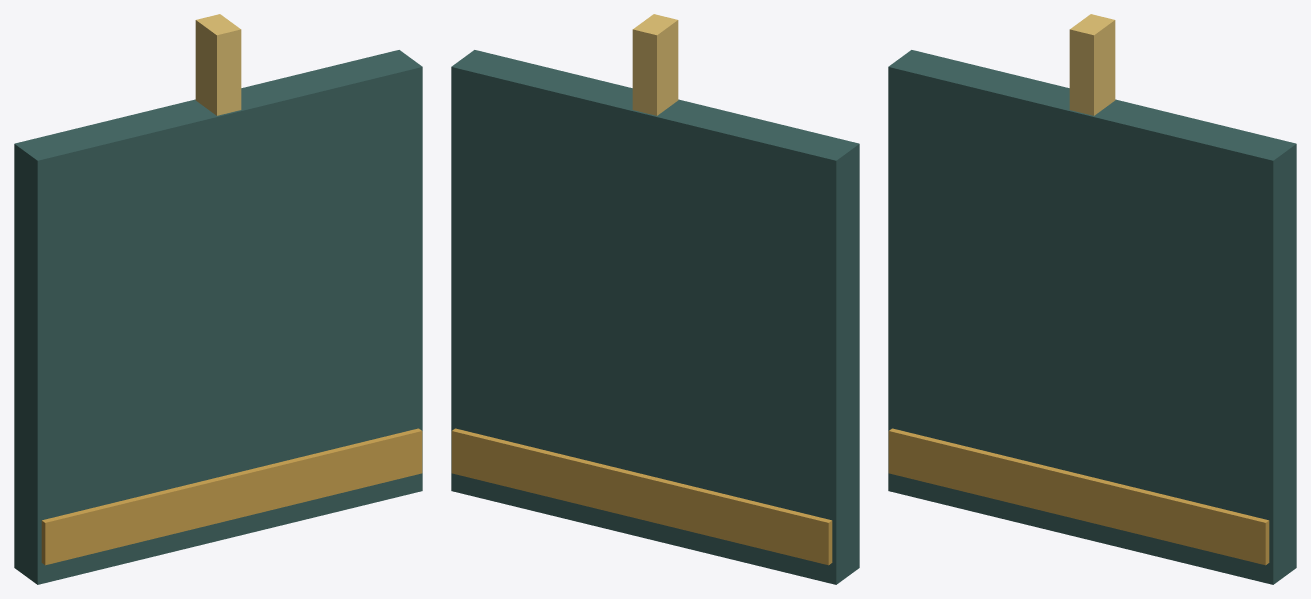
File: fence-panel.glb
3 renders of one model, left to right at view 1: azimuth 30°, elevation 25°; view 2: azimuth 150°, elevation 25°; view 3: azimuth 330°, elevation 25°, orthographic.
Parts seen in each view (by area): view 1: fence-panel; view 2: fence-panel; view 3: fence-panel.
Part boxes in pixels (x1,y1,x2,y2): fence-panel: [14, 14, 422, 584]; fence-panel: [451, 14, 859, 584]; fence-panel: [888, 14, 1296, 584].
Size of the model in its own units: 0.95 by 1.19 by 0.13.
